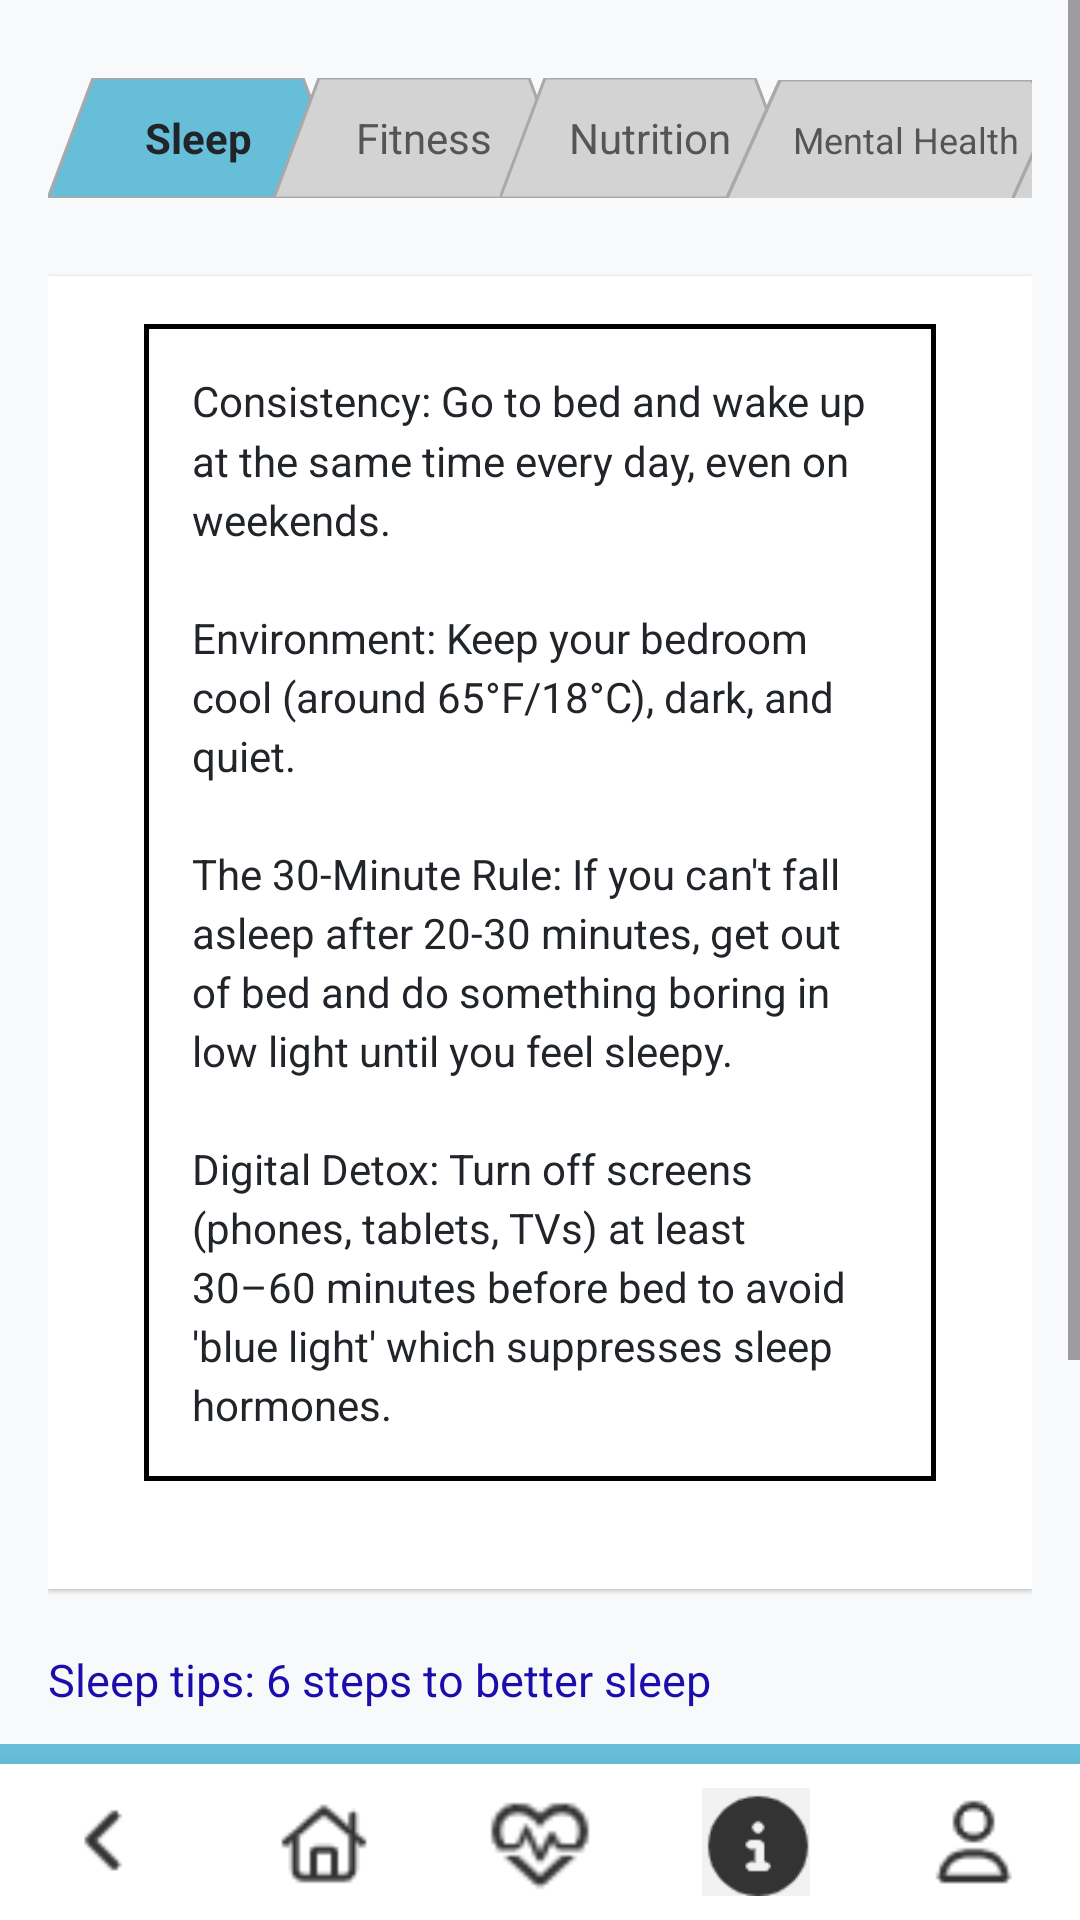

Named icons in this screenshot (1080 x 1920) and their centers, (x,y):
Back: (103,1840)
Home: (324,1843)
Info: (758,1845)
Profile: (974,1842)
